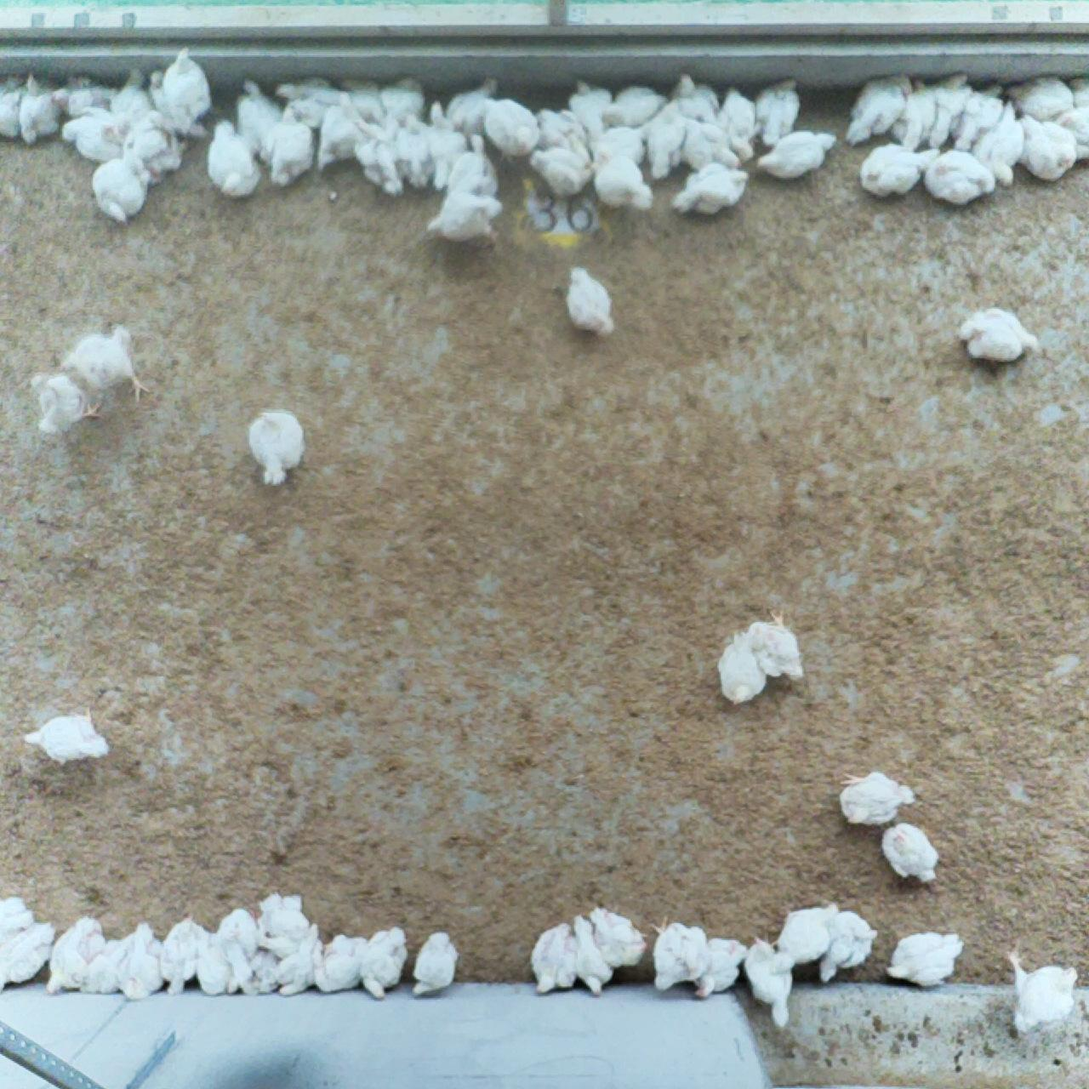chicken: (60, 322, 157, 405), (1001, 948, 1080, 1038), (242, 402, 310, 490), (23, 368, 103, 441), (841, 71, 915, 149), (768, 900, 841, 976), (740, 934, 797, 1030), (21, 704, 114, 762), (419, 191, 510, 250), (835, 767, 920, 830), (748, 126, 841, 183), (202, 117, 265, 201), (476, 87, 543, 165), (955, 305, 1042, 365), (125, 107, 190, 185), (349, 108, 404, 198), (661, 165, 747, 222), (815, 913, 879, 989), (882, 929, 963, 989), (744, 605, 807, 681), (876, 818, 939, 894), (858, 141, 942, 198), (1015, 111, 1082, 182), (150, 66, 208, 146), (44, 920, 105, 995), (267, 103, 318, 190), (59, 103, 130, 165), (921, 149, 995, 208), (238, 77, 288, 164), (652, 909, 707, 987), (90, 155, 152, 224), (163, 43, 211, 132), (315, 104, 373, 177), (679, 111, 744, 176), (1, 918, 58, 992), (525, 139, 597, 197), (589, 154, 654, 218), (589, 902, 651, 969), (563, 264, 618, 339), (950, 83, 1007, 155), (921, 67, 969, 152), (18, 72, 66, 156), (714, 628, 765, 707), (442, 134, 502, 201), (430, 94, 469, 197), (253, 887, 312, 955), (527, 921, 577, 1001), (890, 76, 941, 154), (1006, 71, 1078, 126), (715, 83, 764, 162), (362, 921, 410, 1001), (590, 85, 668, 134), (277, 72, 345, 128), (691, 936, 750, 999), (751, 76, 804, 145), (569, 917, 614, 998), (410, 932, 463, 1000), (331, 61, 390, 122), (441, 75, 499, 137), (562, 71, 613, 139), (661, 69, 725, 123), (312, 934, 368, 994), (273, 926, 321, 996), (220, 938, 280, 994), (161, 915, 203, 995), (389, 109, 429, 192), (123, 924, 165, 1001), (647, 111, 687, 188), (54, 79, 124, 122), (535, 101, 595, 151), (199, 926, 241, 995), (77, 937, 125, 995), (589, 123, 647, 171), (105, 64, 154, 120), (380, 72, 429, 121), (224, 904, 265, 962), (1, 69, 28, 145), (1055, 105, 1089, 164), (2, 889, 32, 948), (1065, 71, 1089, 117)
